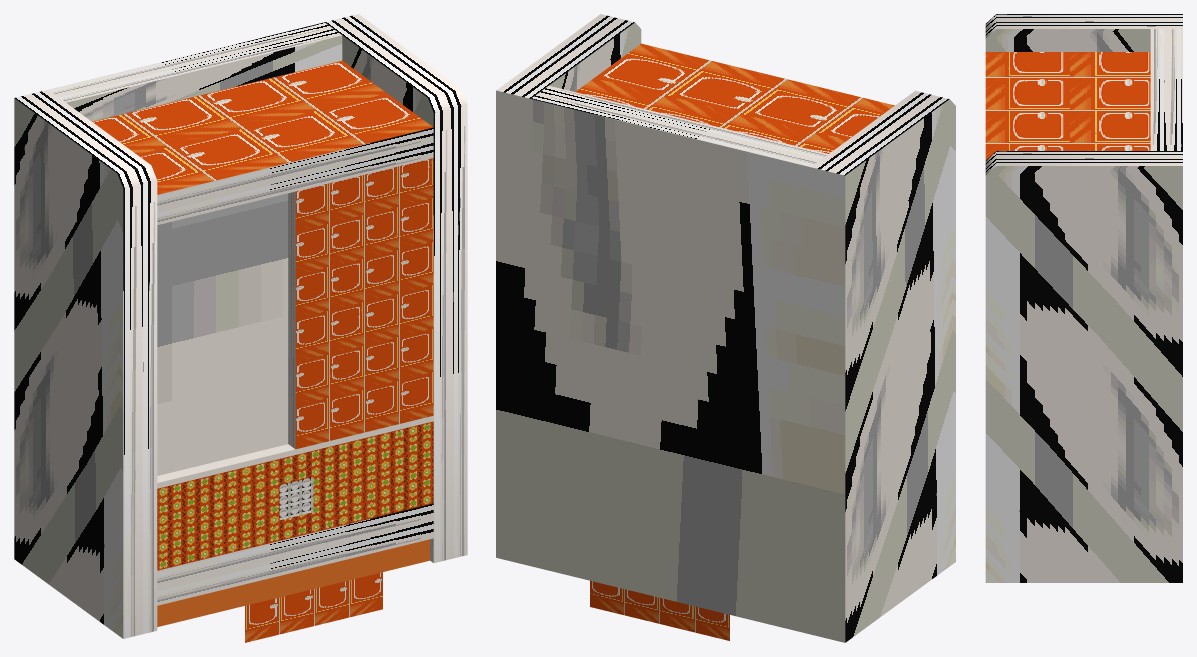
The picture shows the model from 3 angles, left to right: view 1: azimuth 30°, elevation 25°; view 2: azimuth 150°, elevation 25°; view 3: azimuth 270°, elevation 25°; orthographic projection. The views are drawn at different scales.
Visible parts, largest first — view 1: 3900kg3_gs02; view 2: 3900kg3_gs02; view 3: 3900kg3_gs02.
Part boxes in pixels (x1,y1,x2,y2): 3900kg3_gs02: (14,14,467,642); 3900kg3_gs02: (496,14,955,642); 3900kg3_gs02: (985,14,1182,582).
Size of the model in its own units: 1.56 by 2.36 by 0.8645.
Materials: 3 (3 with a texture image).
